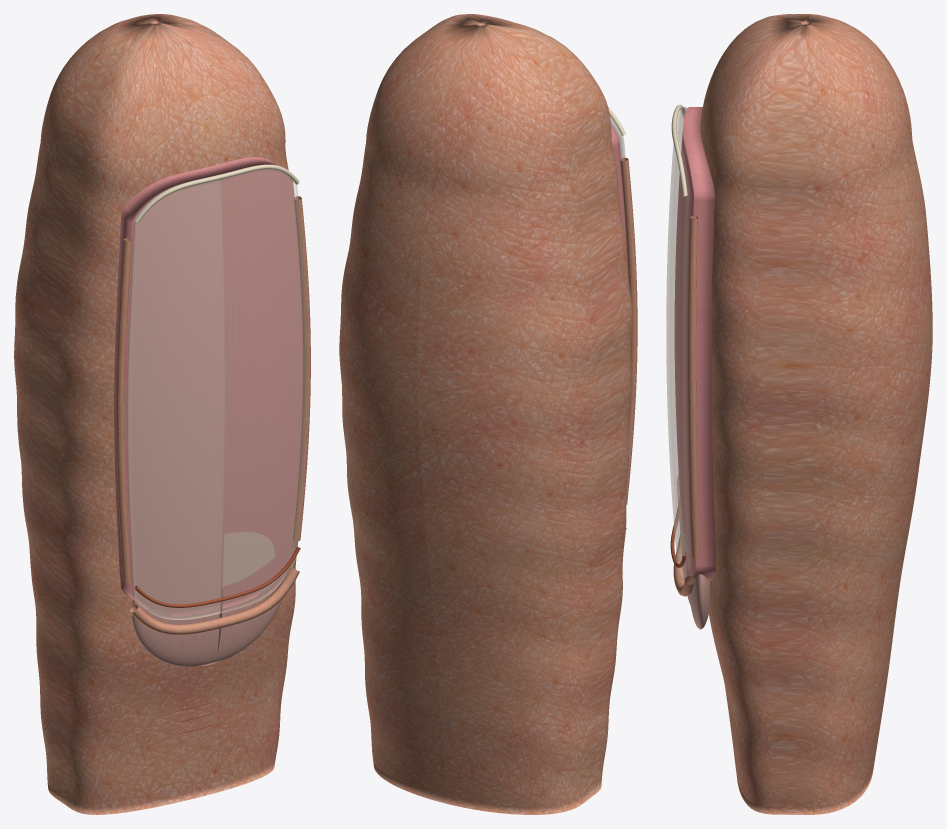
The model's file is nail.glb.
The picture shows the model from 3 angles, left to right: view 1: azimuth 30°, elevation 25°; view 2: azimuth 150°, elevation 25°; view 3: azimuth 270°, elevation 25°; orthographic projection.
Parts seen in each view (by area): view 1: Epidermis_Far, NailPlate_Whole, NailBed_Whole, NailPlate_Far, Epidermis_Near, LateralFold_Far, NailMatrix_Far, LateralFold_Near, NailMatrix_Near, Lunula, NailBed_Far, ProximalFold_Far (+2 smaller); view 2: Epidermis_Far, Epidermis_Near, LateralFold_Far, NailBed_Whole; view 3: Epidermis_Near, NailBed_Whole, NailPlate_Whole, LateralFold_Near, Epidermis_Far, NailPlate_Far, NailMatrix_Near.
Part boxes in pixels (left/top/right/bottom): Epidermis_Far: left=14, top=17, right=209, bottom=814; NailPlate_Whole: left=126, top=169, right=307, bottom=619; NailBed_Whole: left=114, top=157, right=303, bottom=616; NailPlate_Far: left=126, top=179, right=226, bottom=619; Epidermis_Near: left=137, top=14, right=298, bottom=799; LateralFold_Far: left=116, top=238, right=131, bottom=582; NailMatrix_Far: left=132, top=599, right=215, bottom=666; LateralFold_Near: left=293, top=196, right=310, bottom=541; NailMatrix_Near: left=210, top=571, right=286, bottom=664; Lunula: left=222, top=531, right=275, bottom=586; NailBed_Far: left=114, top=167, right=221, bottom=615; ProximalFold_Far: left=130, top=605, right=222, bottom=634; Epidermis_Far: left=417, top=18, right=632, bottom=814; Epidermis_Near: left=339, top=14, right=500, bottom=803; LateralFold_Far: left=620, top=157, right=637, bottom=504; NailBed_Whole: left=611, top=124, right=626, bottom=246; Epidermis_Near: left=700, top=23, right=932, bottom=814; NailBed_Whole: left=674, top=107, right=715, bottom=580; NailPlate_Whole: left=666, top=107, right=692, bottom=580; LateralFold_Near: left=688, top=216, right=699, bottom=558; Epidermis_Far: left=700, top=14, right=926, bottom=218; NailPlate_Far: left=666, top=107, right=686, bottom=560; NailMatrix_Near: left=687, top=574, right=709, bottom=629.
Bounding box in the file's own units: 1.35 × 4.01 × 1.3.
14 materials, 10 textured.
